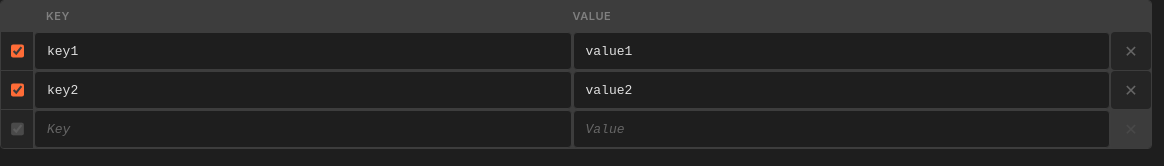
Test: DictionaryInput › Removing rows › should remove row when delete button is clicked
Click the 1st button titled "Delete row": x=1131, y=51 [1111,32,1151,70]
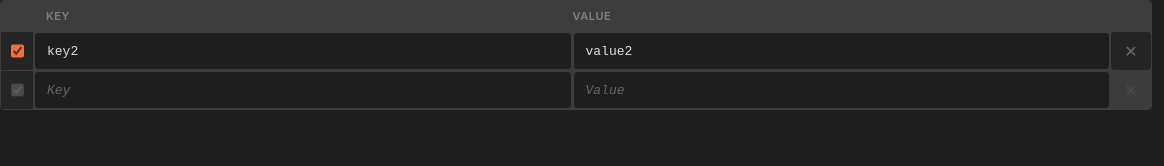
Now the number of fields with placeholder "Key" is 2, box [34,32,572,70]; [34,71,572,109]
